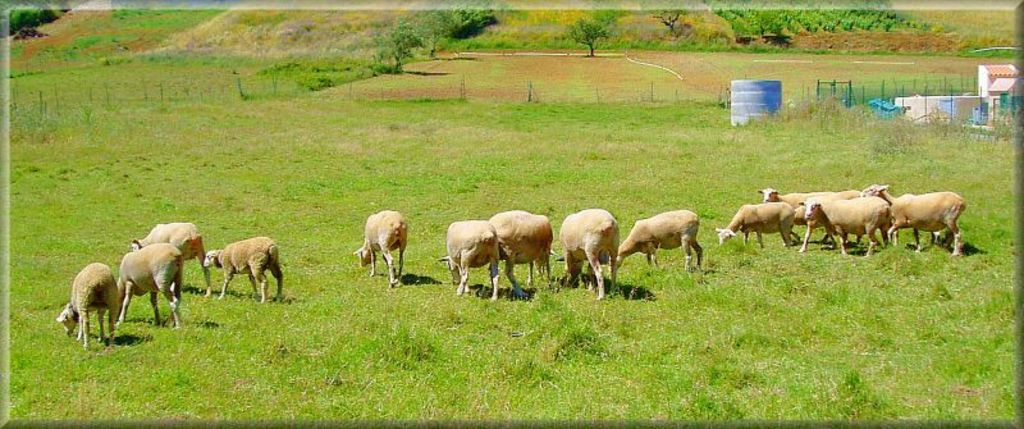sheep: (57, 262, 115, 353), (202, 234, 281, 299)
